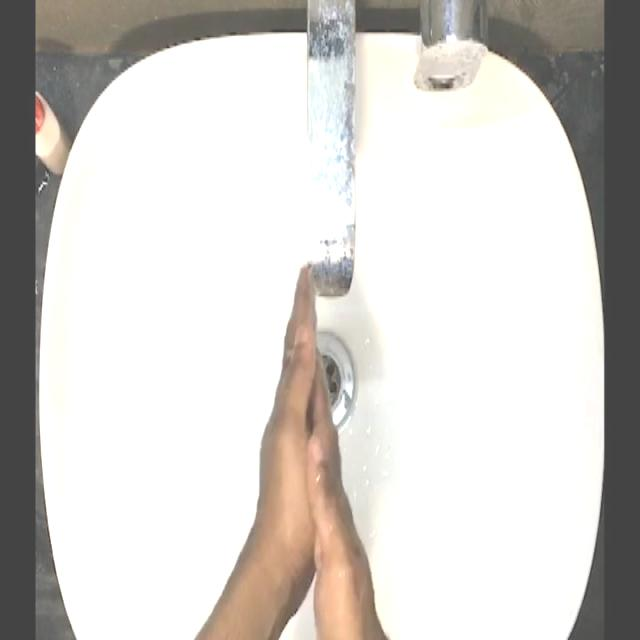step_1: (245, 243, 377, 567)
